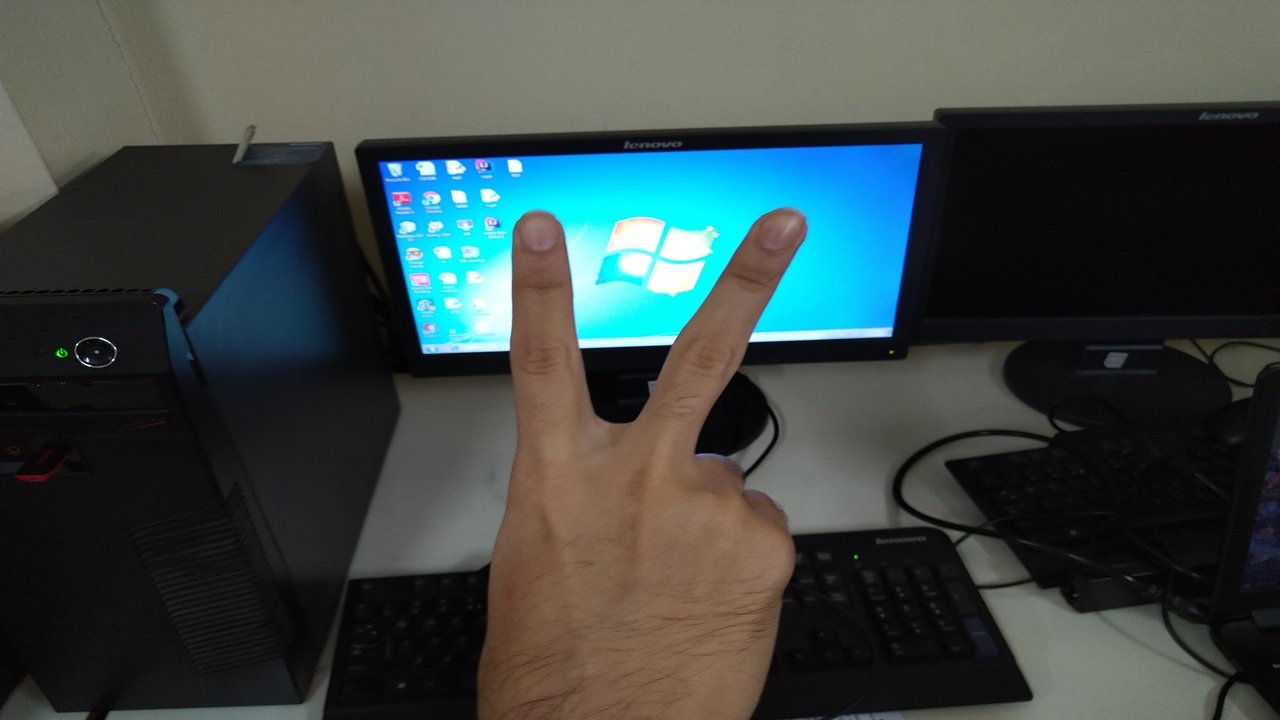fingertip: (746, 200, 814, 256), (508, 210, 570, 266)
